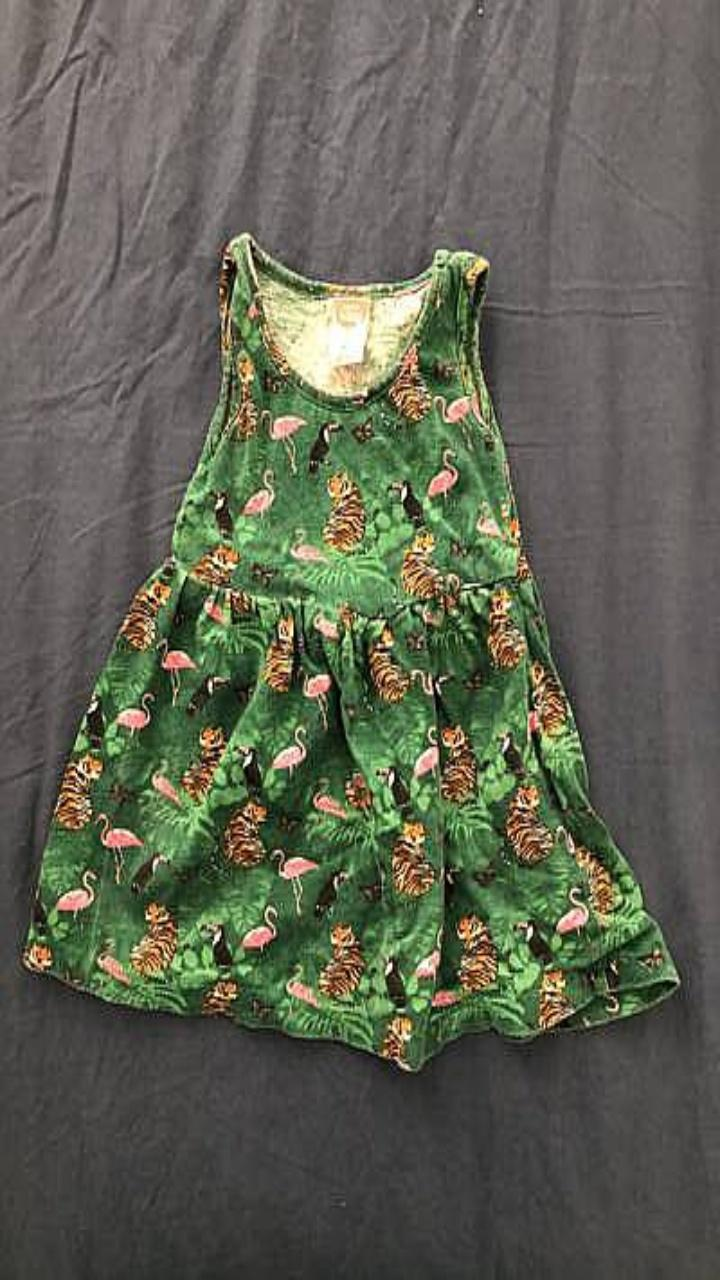Dresses: (23, 232, 679, 1070)
